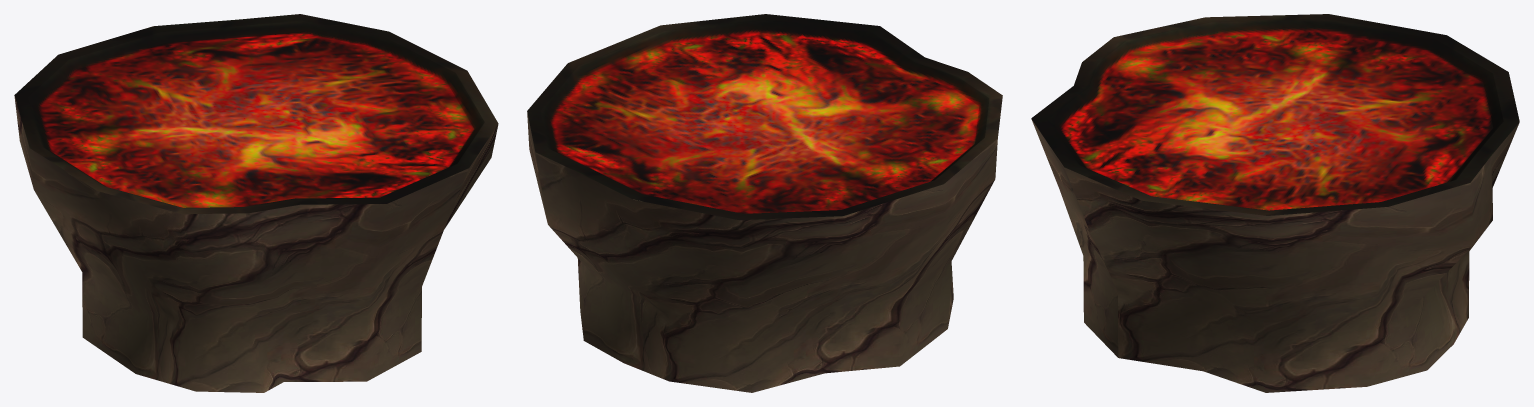
The model's file is Battle02_Pools_03.FBX.
3 views of the same model, side by side, from view 1: azimuth 30°, elevation 25°; view 2: azimuth 150°, elevation 25°; view 3: azimuth 270°, elevation 25° (orthographic).
Parts seen in each view (by area): view 1: Battle02_Pools_03_01, Battle02_Pools_03_02; view 2: Battle02_Pools_03_01, Battle02_Pools_03_02; view 3: Battle02_Pools_03_01, Battle02_Pools_03_02.
Part boxes in pixels (x1,y1,x2,y2): Battle02_Pools_03_01: (14, 14, 498, 214); Battle02_Pools_03_02: (14, 26, 498, 392); Battle02_Pools_03_01: (527, 14, 1002, 220); Battle02_Pools_03_02: (527, 113, 997, 392); Battle02_Pools_03_01: (1031, 14, 1518, 215); Battle02_Pools_03_02: (1031, 118, 1519, 392).
Size of the model in its own units: 9.61 by 4.46 by 9.82.
